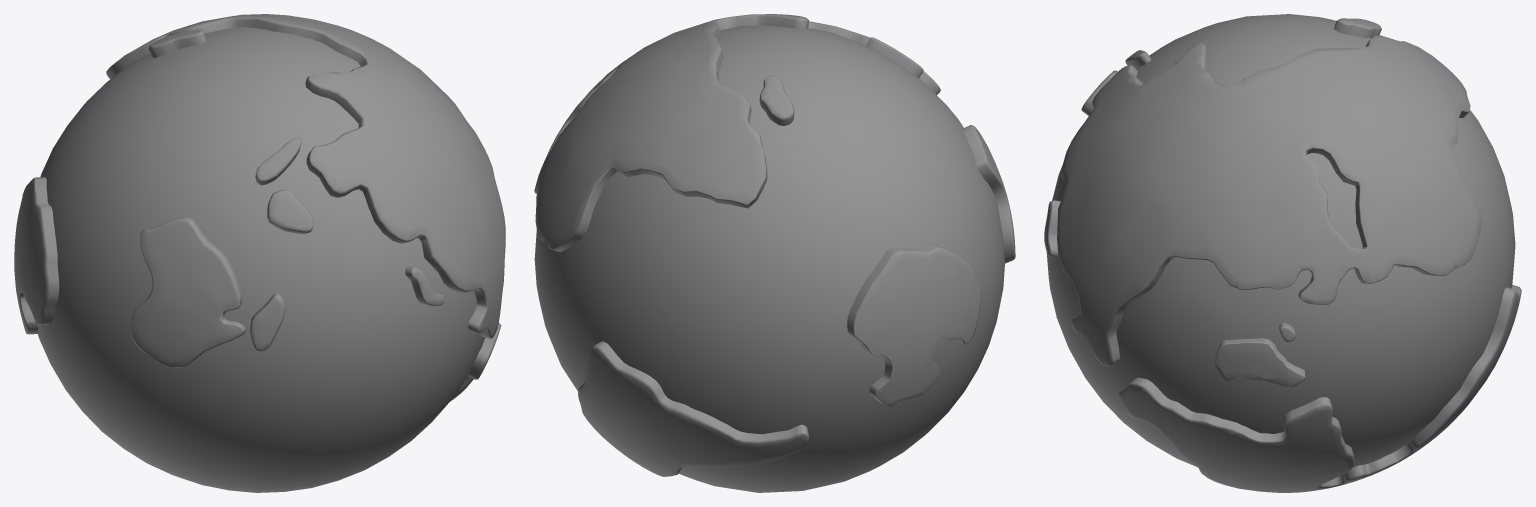
File: plan.glb
The picture shows the model from 3 angles, left to right: view 1: azimuth 30°, elevation 25°; view 2: azimuth 150°, elevation 25°; view 3: azimuth 270°, elevation 25°; orthographic projection.
Visible parts, largest first — view 1: node_id113; view 2: node_id113; view 3: node_id113.
Boxes of the visible parts, box(x1,y1,x2,y2) form: node_id113: box(14, 14, 505, 492); node_id113: box(534, 14, 1015, 492); node_id113: box(1044, 14, 1521, 492).
Size of the model in its own units: 0.5136 by 0.4894 by 0.4961.
Materials: 1 (1 with a texture image).
